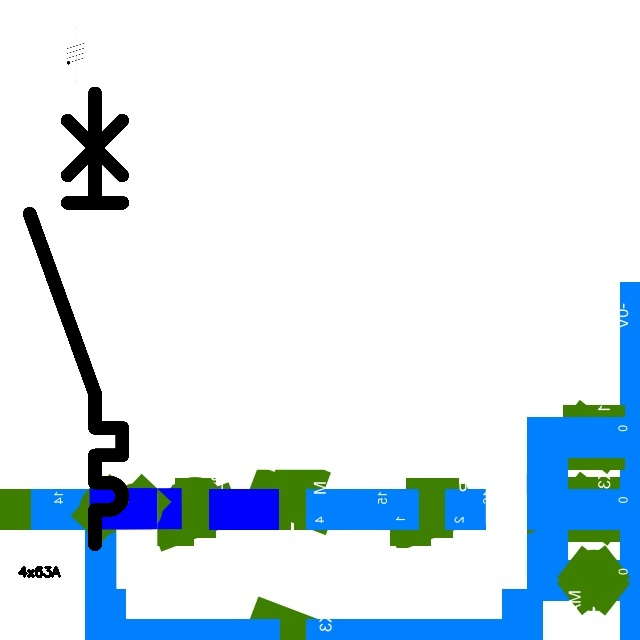interruptor_termomagnetico: (18, 81, 134, 555)
